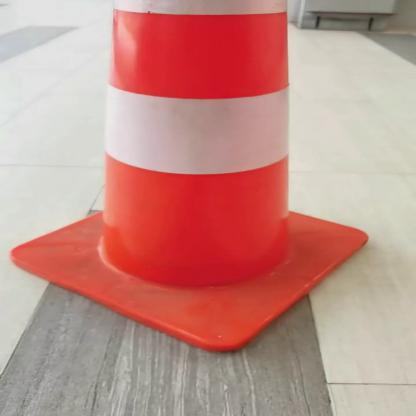cone: (0, 0, 378, 353)
